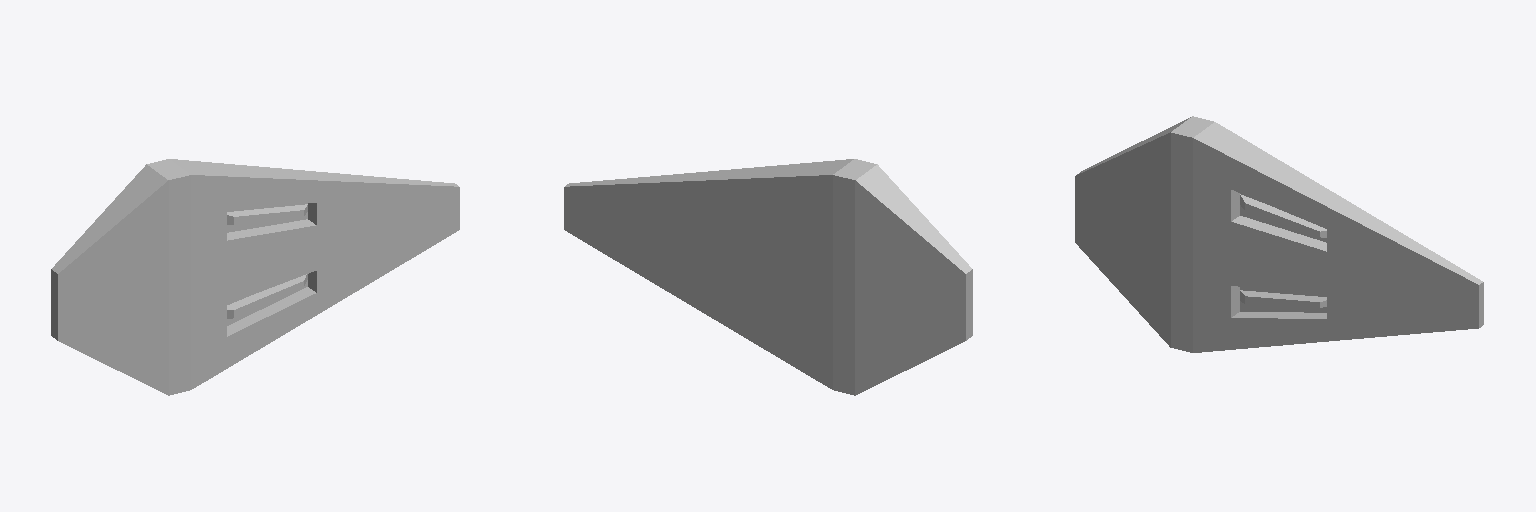
Rendered from enemyS3.obj.
3 renders of one model, left to right at view 1: azimuth 30°, elevation 25°; view 2: azimuth 150°, elevation 25°; view 3: azimuth 330°, elevation 25°, orthographic.
Size of the model in its own units: 1.96 by 1 by 0.1861.